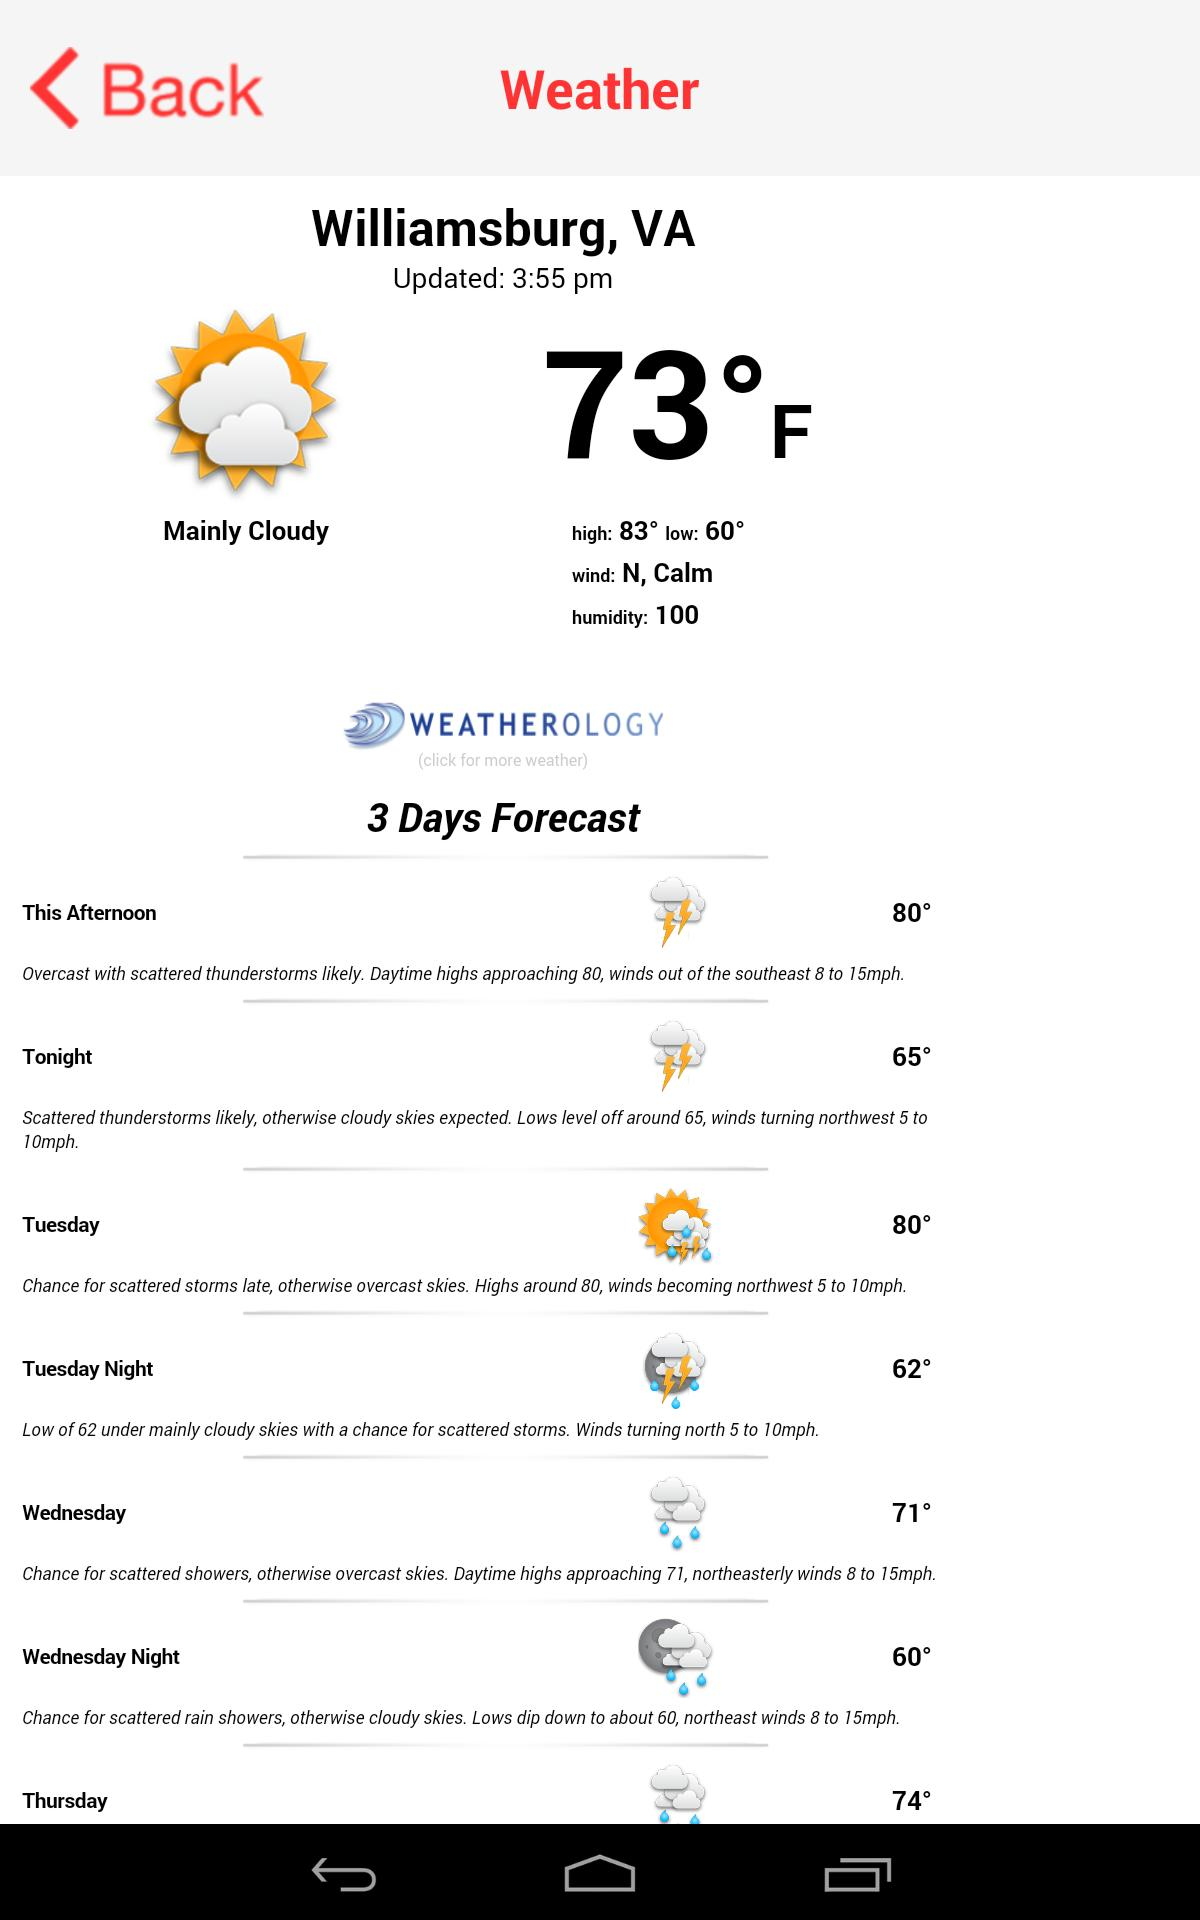android.view.View: (0, 176, 1200, 1920), (19, 196, 990, 1920), (19, 847, 990, 1920), (17, 304, 994, 509), (17, 196, 994, 300), (19, 196, 986, 300), (17, 686, 994, 787), (19, 686, 986, 787), (19, 304, 471, 509), (476, 304, 881, 509), (17, 872, 994, 957), (17, 1016, 994, 1100), (17, 1472, 994, 1556), (17, 1616, 994, 1700), (17, 1760, 994, 1844), (17, 1185, 994, 1268), (17, 1328, 994, 1411), (22, 699, 984, 770), (22, 198, 984, 260), (17, 791, 994, 845), (19, 791, 986, 845), (17, 1104, 994, 1156), (19, 1104, 990, 1156), (22, 699, 984, 751), (22, 792, 984, 842), (17, 639, 994, 681), (19, 639, 986, 681), (19, 872, 471, 957), (19, 1016, 471, 1100), (19, 1472, 471, 1556), (19, 1616, 471, 1700), (19, 1760, 471, 1844), (17, 511, 994, 550), (17, 596, 994, 634), (19, 1185, 471, 1268), (19, 1328, 471, 1411), (17, 554, 994, 592), (19, 511, 471, 592), (22, 260, 984, 296), (476, 872, 881, 957), (476, 1016, 881, 1100), (476, 1472, 881, 1556), (476, 1616, 881, 1700), (476, 1760, 881, 1844), (476, 1185, 881, 1268), (476, 1328, 881, 1411), (17, 959, 994, 988), (17, 1415, 994, 1444), (19, 959, 990, 988), (19, 1415, 990, 1444), (17, 1272, 994, 1299), (17, 1561, 994, 1588), (17, 1704, 994, 1732), (17, 1848, 994, 1876), (19, 1272, 990, 1299), (19, 1561, 990, 1588), (19, 1704, 990, 1732), (19, 1848, 990, 1876), (17, 847, 994, 868), (17, 1160, 994, 1180), (17, 1303, 994, 1324), (17, 1880, 994, 1901), (19, 847, 990, 868), (19, 1160, 990, 1180), (19, 1303, 990, 1324), (19, 1880, 990, 1901), (476, 511, 986, 550), (476, 596, 986, 634), (476, 554, 986, 592), (17, 992, 994, 1012), (17, 1449, 994, 1468), (17, 1592, 994, 1612), (17, 1736, 994, 1756), (19, 992, 990, 1012), (19, 1449, 990, 1468), (19, 1592, 990, 1612), (19, 1736, 990, 1756), (19, 596, 471, 634), (17, 1903, 994, 1920), (22, 900, 470, 926), (22, 1044, 470, 1070), (22, 1212, 470, 1239), (22, 1356, 470, 1382), (22, 1500, 470, 1526), (22, 1644, 470, 1670), (22, 1789, 470, 1814), (883, 872, 986, 957), (883, 1016, 986, 1100), (883, 1472, 986, 1556), (883, 1616, 986, 1700), (883, 1760, 986, 1844), (883, 1185, 986, 1268), (883, 1328, 986, 1411), (19, 1903, 471, 1920), (476, 1903, 881, 1920), (883, 1903, 986, 1920), (502, 648, 505, 688)
android.widget.Button: (30, 47, 264, 129)
android.widget.FrameLayout: (0, 0, 1200, 1825), (0, 0, 274, 151)
android.widget.GridView: (17, 192, 994, 1920)
android.widget.Image: (147, 305, 346, 506), (187, 994, 828, 1010), (187, 1450, 828, 1467), (187, 1594, 828, 1610), (187, 1738, 828, 1754), (187, 850, 828, 865), (187, 1163, 828, 1178), (187, 1306, 828, 1321), (187, 1883, 828, 1898), (637, 874, 718, 954), (637, 1017, 718, 1098), (637, 1186, 718, 1266), (637, 1330, 718, 1410), (637, 1474, 718, 1554), (637, 1762, 718, 1843), (637, 1619, 718, 1697), (637, 1906, 718, 1920)
android.widget.LinearLayout: (0, 0, 1200, 1825)
android.widget.RelativeLayout: (0, 0, 1200, 1825), (0, 0, 1200, 176)
android.widget.TextView: (499, 51, 701, 124)
